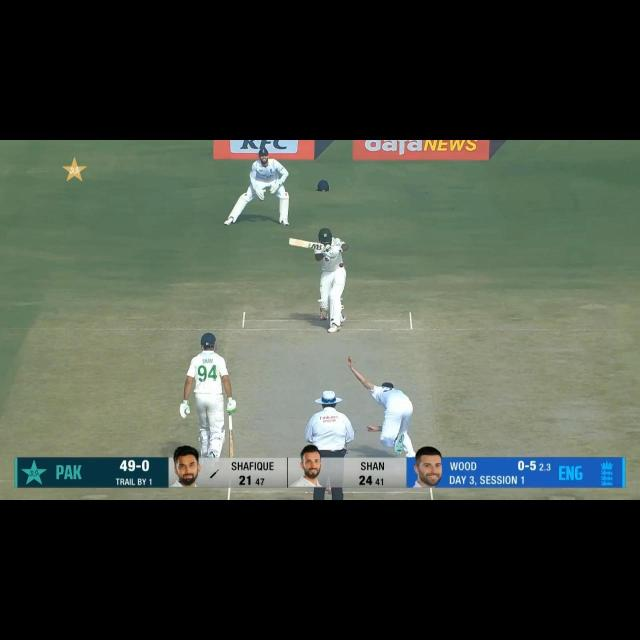bat: (284, 234, 325, 253), (226, 429, 239, 459)
toe: (286, 236, 298, 247), (227, 454, 237, 459)
